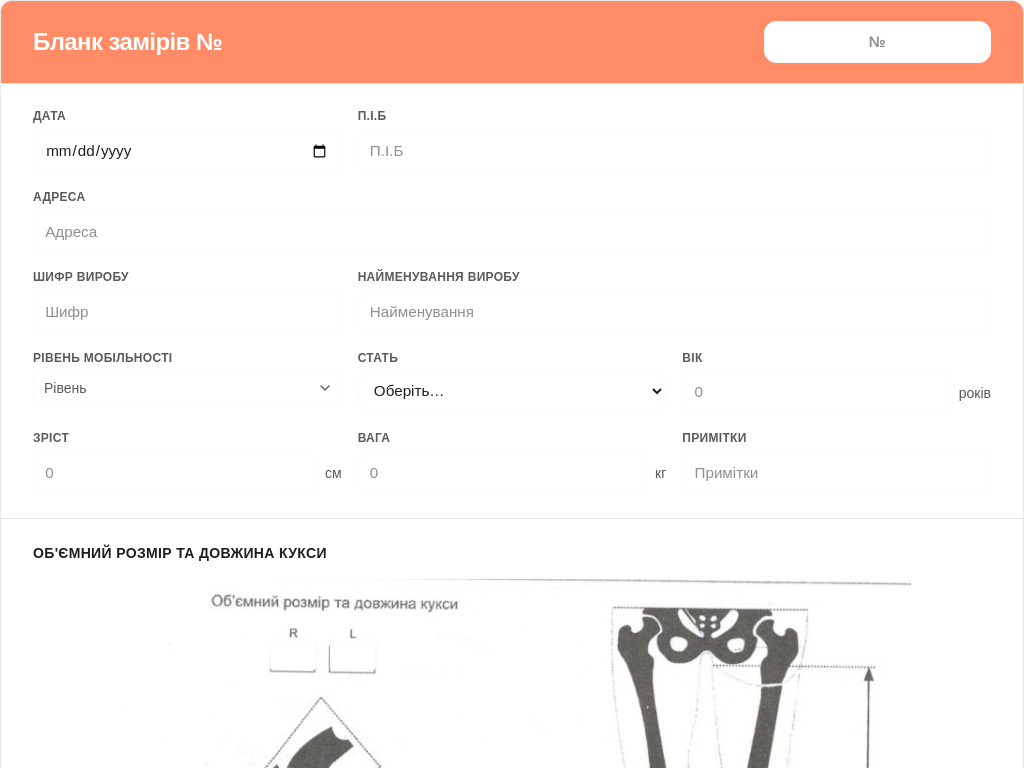
LowerLimbMeasurementForm › renders mobility as a dropdown with exactly the 5 agreed options
The width and height of the screenshot is (1024, 768).
Click the dropdown named "Рівень мобільності" at (65, 388), box [33,372,342,404]
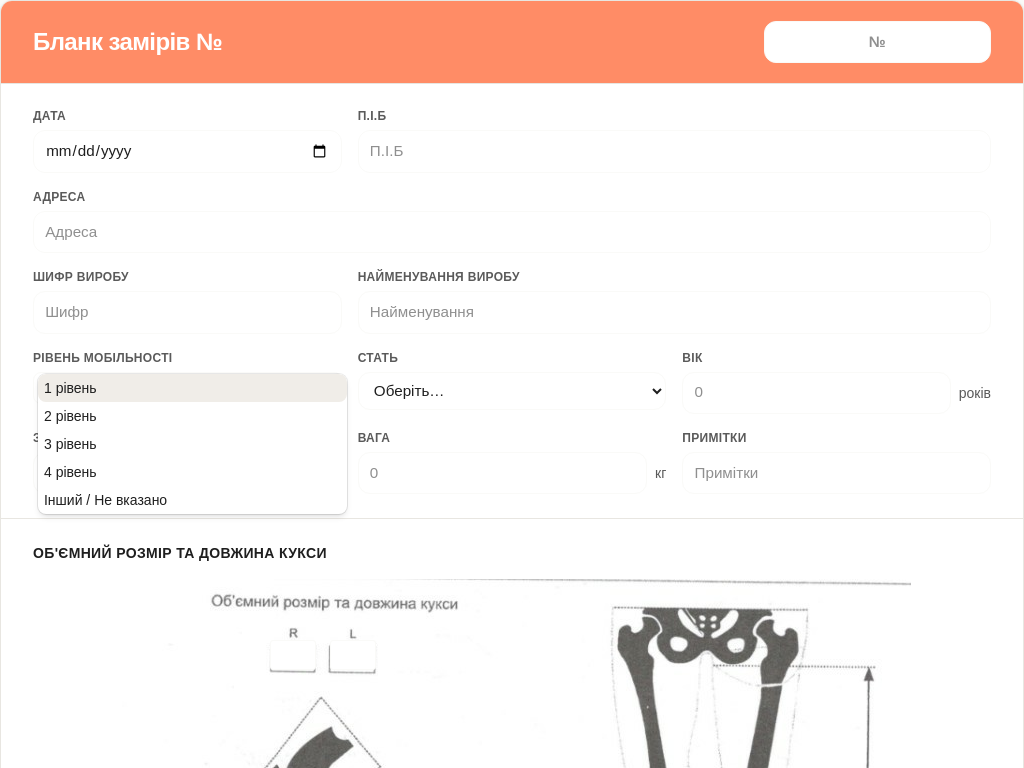
Expected: the options read "1 рівень", "2 рівень", "3 рівень", "4 рівень", "Інший / Не вказано", in this order, [38,374,347,402]; [44,408,97,424]; [44,436,97,452]; [44,464,97,480]; [44,492,167,508]
Expected: the number of options is 5, [38,374,347,402]; [44,408,97,424]; [44,436,97,452]; [44,464,97,480]; [44,492,167,508]
